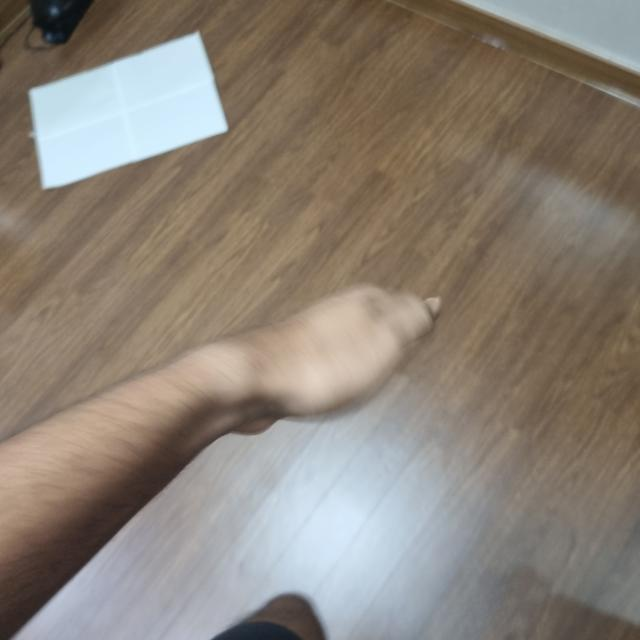Paper: (239, 290, 423, 411)
